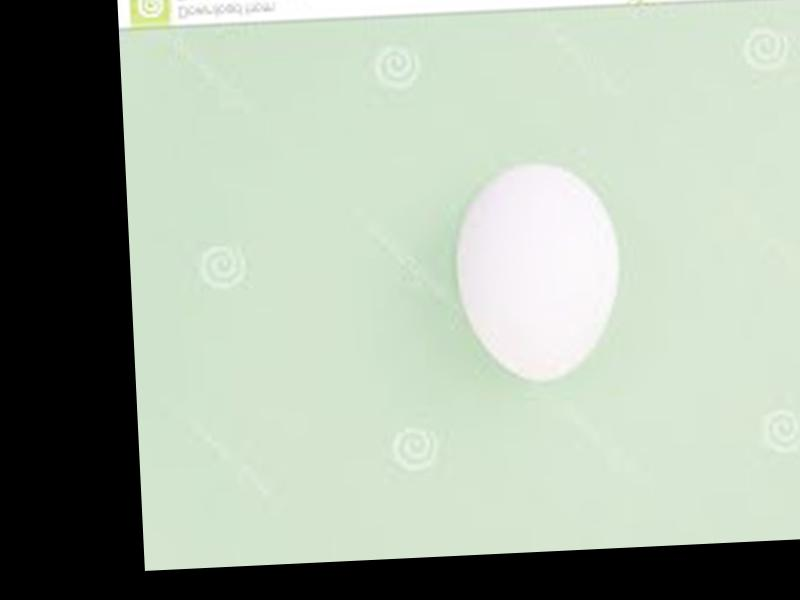Eggs: (450, 161, 621, 382)
